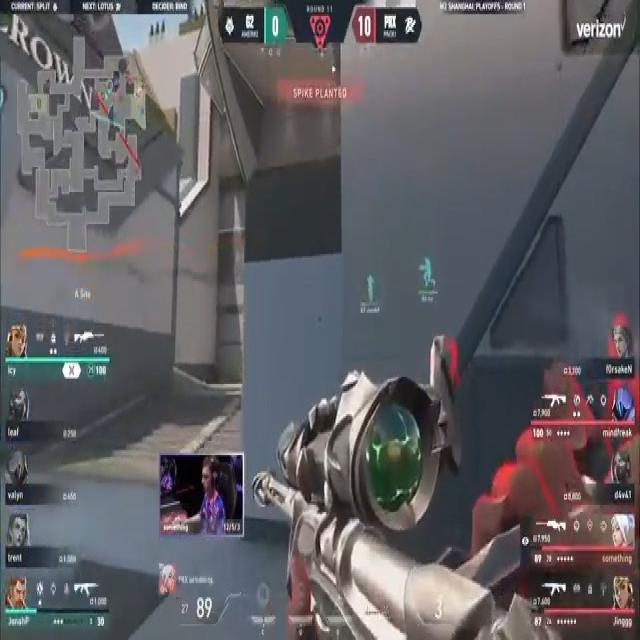ally behind wall: (422, 250, 436, 300), (366, 270, 374, 310)
